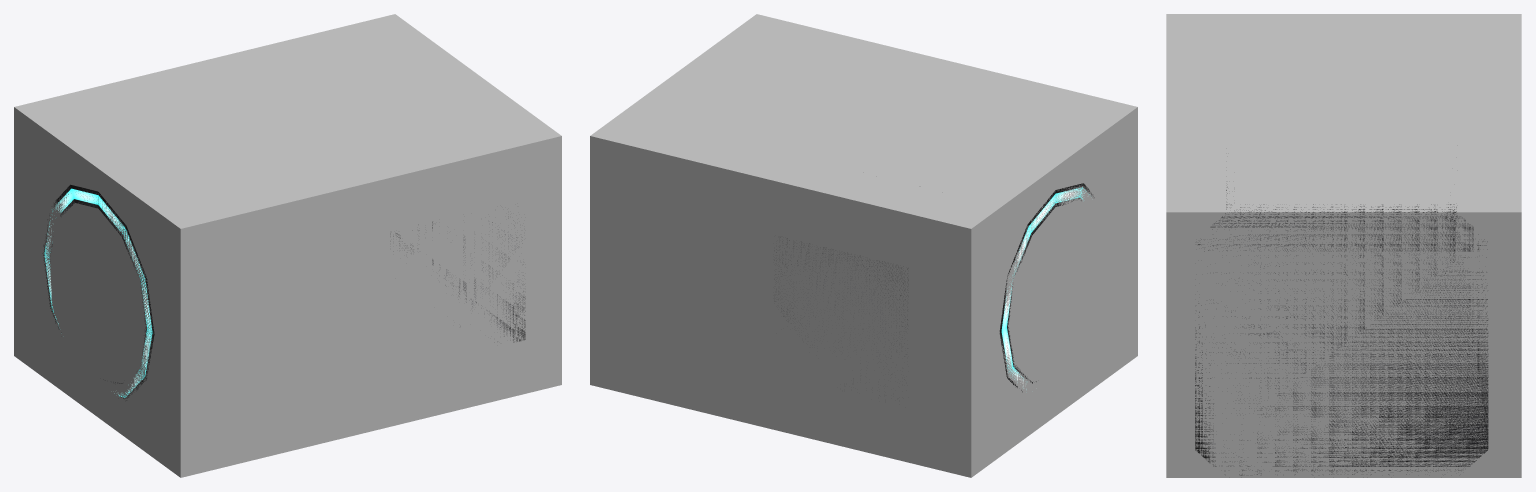
File: SM_ACUnit_01.fbx
3 renders of one model, left to right at view 1: azimuth 30°, elevation 25°; view 2: azimuth 150°, elevation 25°; view 3: azimuth 270°, elevation 25°, orthographic. The views are drawn at different scales.
Parts seen in each view (by area): view 1: SM_ACUnit_01_ConvexHulls, SM_ACUnit_01; view 2: SM_ACUnit_01_ConvexHulls, SM_ACUnit_01; view 3: SM_ACUnit_01_ConvexHulls, SM_ACUnit_01.
Boxes of the visible parts, x1,y1,x2,y2 form: SM_ACUnit_01_ConvexHulls: [14, 14, 561, 477]; SM_ACUnit_01: [42, 184, 525, 400]; SM_ACUnit_01_ConvexHulls: [590, 14, 1137, 477]; SM_ACUnit_01: [774, 183, 1094, 395]; SM_ACUnit_01_ConvexHulls: [1166, 14, 1521, 477]; SM_ACUnit_01: [1195, 187, 1488, 475].
Size of the model in its own units: 123 by 93.41 by 77.
Materials: 2 (1 with a texture image).
